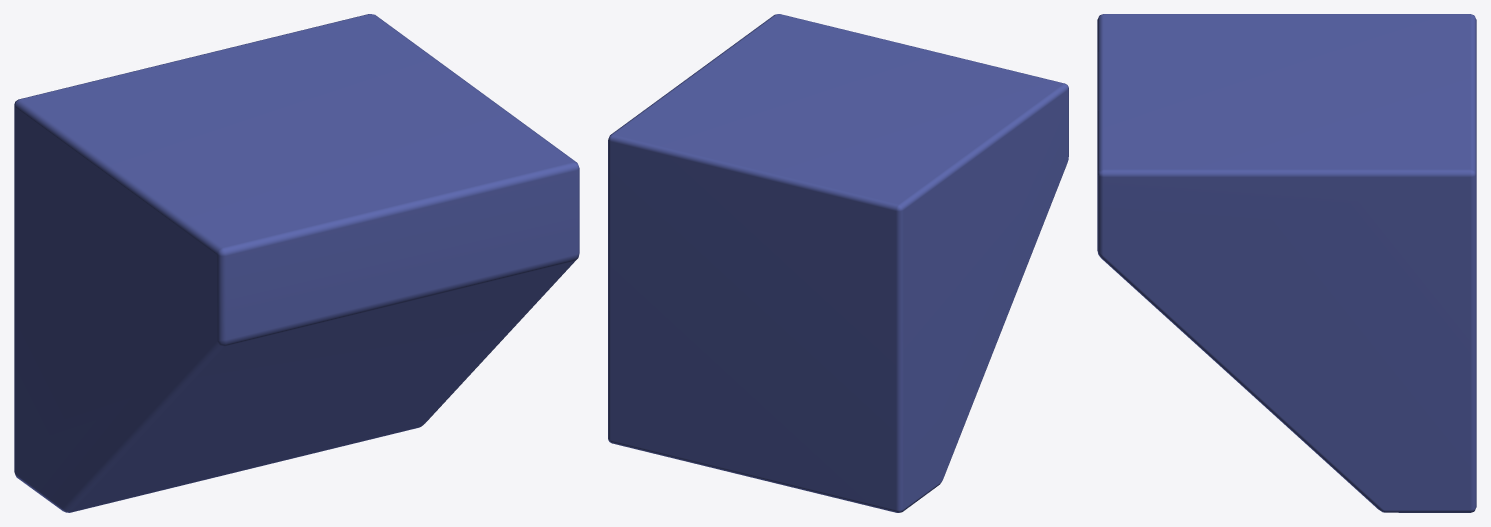
The model's file is SM_AngledCube_01.fbx.
The picture shows the model from 3 angles, left to right: view 1: azimuth 30°, elevation 25°; view 2: azimuth 150°, elevation 25°; view 3: azimuth 270°, elevation 25°; orthographic projection. The views are drawn at different scales.
Visible parts, largest first — view 1: SM_AngledCube_01; view 2: SM_AngledCube_01; view 3: SM_AngledCube_01.
Part boxes in pixels (bbox=[...]): SM_AngledCube_01: bbox=[14, 14, 579, 512]; SM_AngledCube_01: bbox=[608, 14, 1068, 512]; SM_AngledCube_01: bbox=[1097, 14, 1476, 512].
Size of the model in its own units: 200 by 200 by 200.
